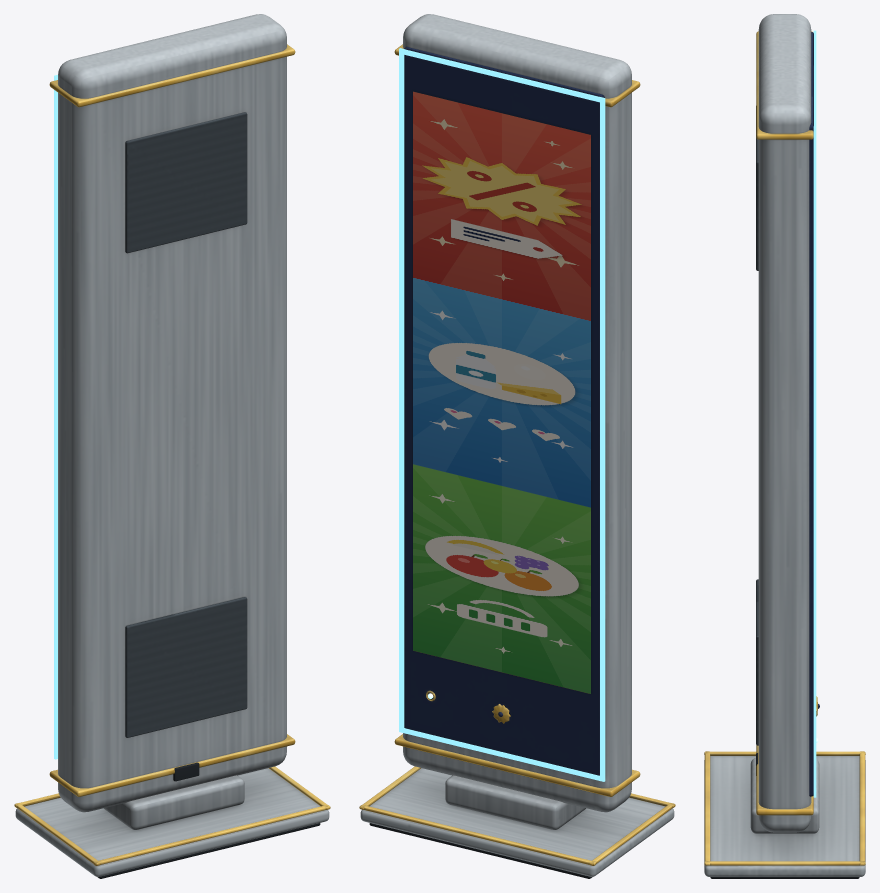
Rendered from digital-totem.fbx.
The picture shows the model from 3 angles, left to right: view 1: azimuth 30°, elevation 25°; view 2: azimuth 150°, elevation 25°; view 3: azimuth 270°, elevation 25°; orthographic projection. The views are drawn at different scales.
Parts seen in each view (by area): view 1: Body; view 2: Anim Scroll, Body; view 3: Body.
Boxes of the visible parts, box(x1,y1,x2,y2) form: Body: box(14, 14, 330, 878); Anim Scroll: box(413, 91, 590, 693); Body: box(359, 14, 675, 878); Body: box(704, 14, 865, 878).
Size of the model in its own units: 0.66 by 2.1 by 0.4.
